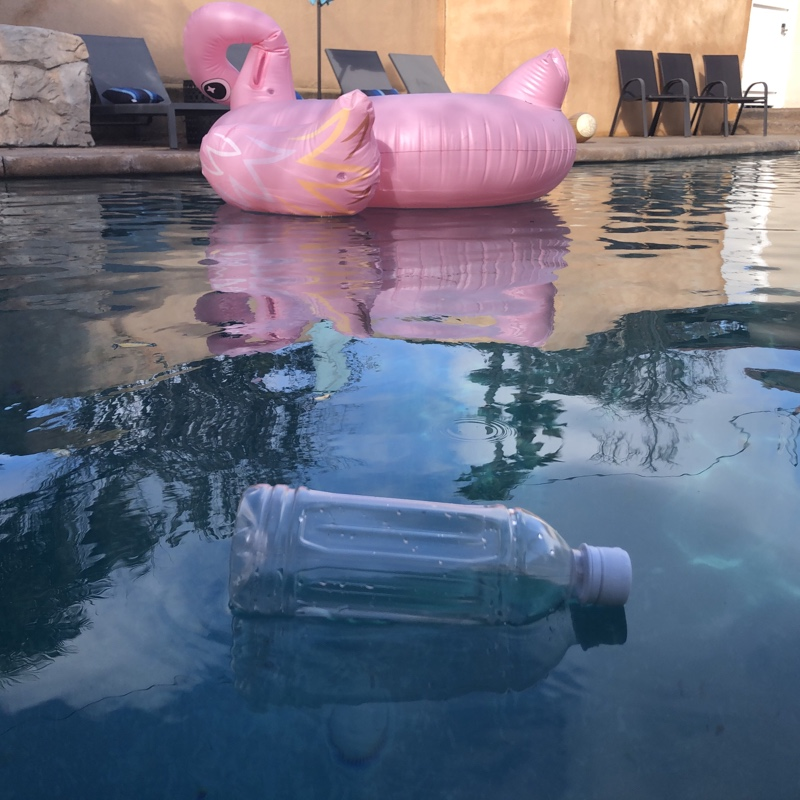Plastic Bottle: (221, 480, 638, 640)
